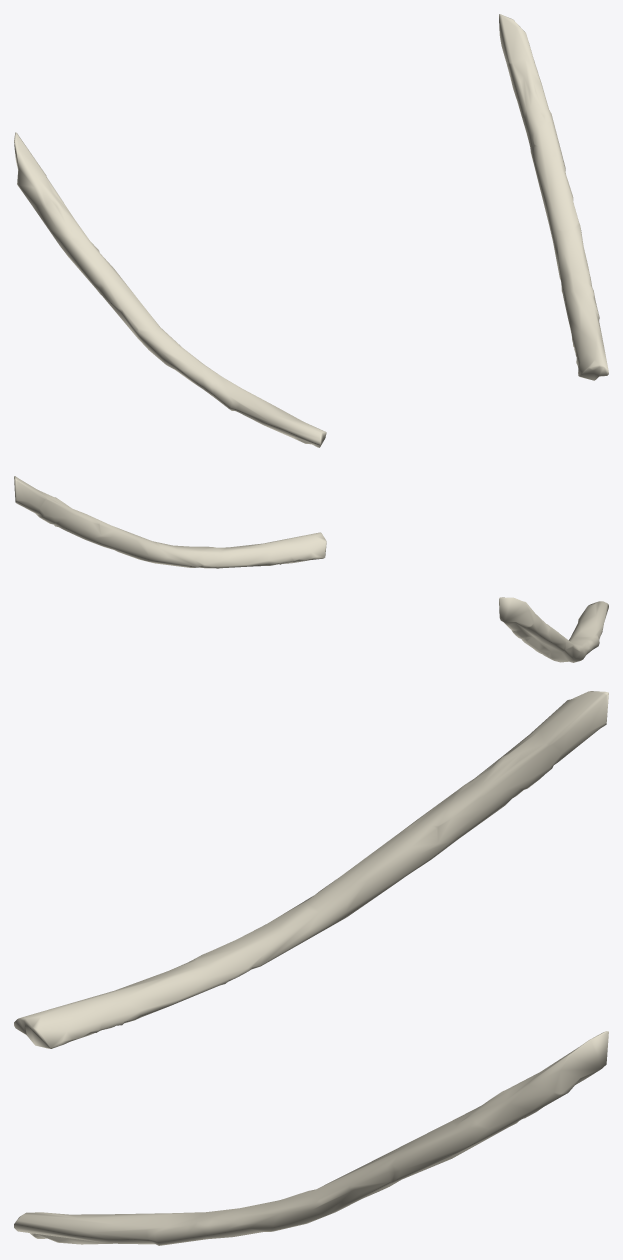
Rendered from tendons-pelvis-mobile.glb.
3 views of the same model, one above another, from view 1: azimuth 30°, elevation 25°; view 2: azimuth 150°, elevation 25°; view 3: azimuth 270°, elevation 25° (orthographic). The views are drawn at different scales.
Parts seen in each view (by area): view 1: za.tendinous-arch-of-levator-ani-l, za.tendinous-arch-of-levator-ani-r; view 2: za.tendinous-arch-of-levator-ani-l, za.tendinous-arch-of-levator-ani-r; view 3: za.tendinous-arch-of-levator-ani-r, za.tendinous-arch-of-levator-ani-l.
Part boxes in pixels (box(x1,y1,x2,y2)): za.tendinous-arch-of-levator-ani-l: box(499, 14, 608, 380); za.tendinous-arch-of-levator-ani-r: box(14, 132, 326, 447); za.tendinous-arch-of-levator-ani-l: box(14, 476, 326, 568); za.tendinous-arch-of-levator-ani-r: box(499, 597, 608, 662); za.tendinous-arch-of-levator-ani-r: box(14, 691, 608, 1048); za.tendinous-arch-of-levator-ani-l: box(14, 1031, 608, 1245).
Bounding box in the file's own units: 0.0936 × 0.0341 × 0.0653.
